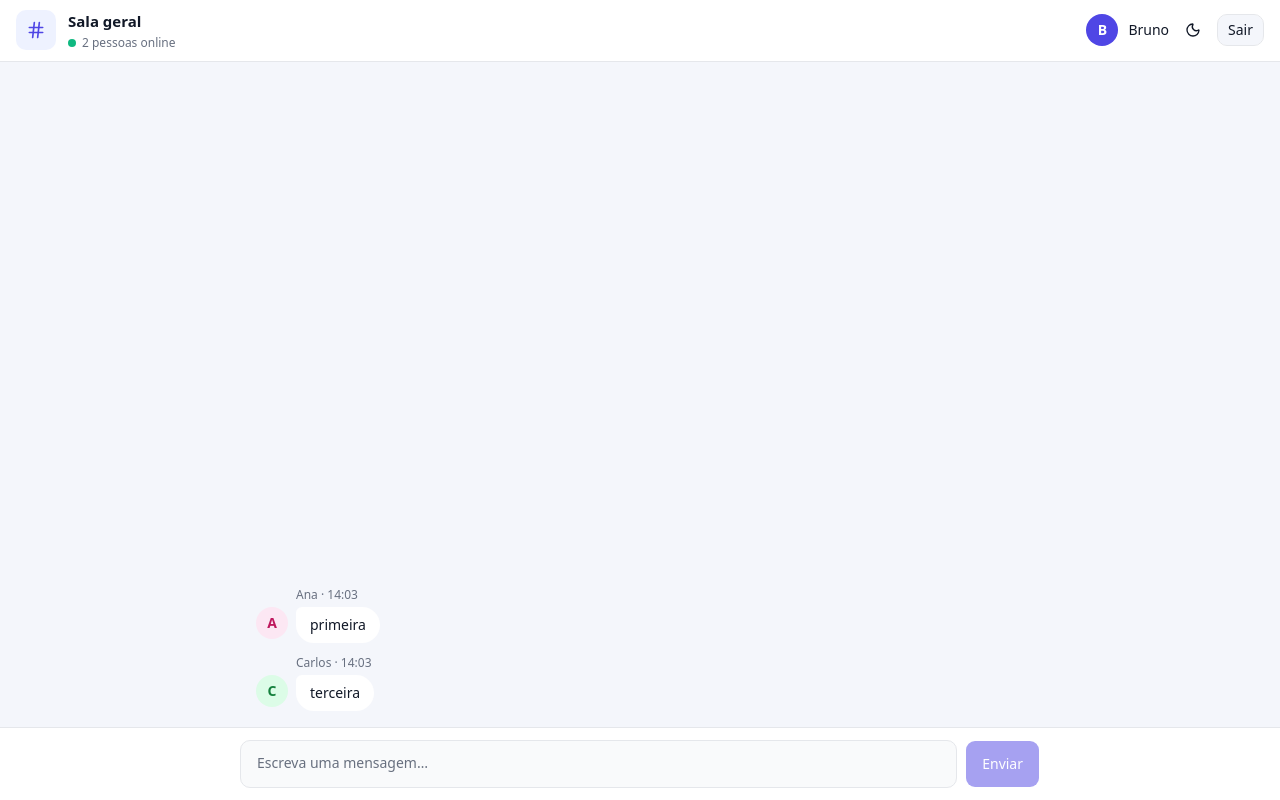
ChatStream › envio otimista (OPT-01, RATE-02) › enviar mostra a mensagem na hora, no fim, como "Enviando…", com o clientId gerado (AC1)
Type "olá" into the text box labelled "mensagem" at (599,764), box [240,740,957,788]
Then press Enter
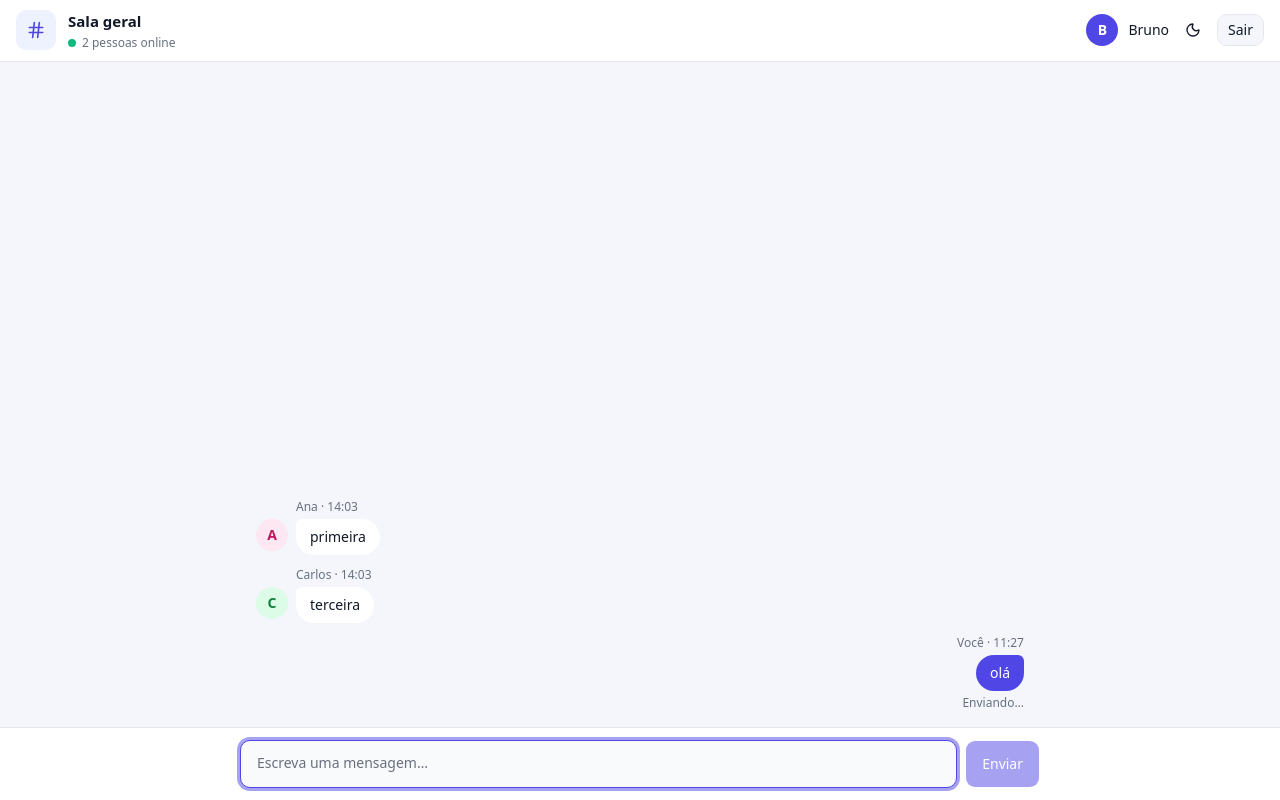
Expected: the text "Enviando…" is shown, [962,695,1024,711]
